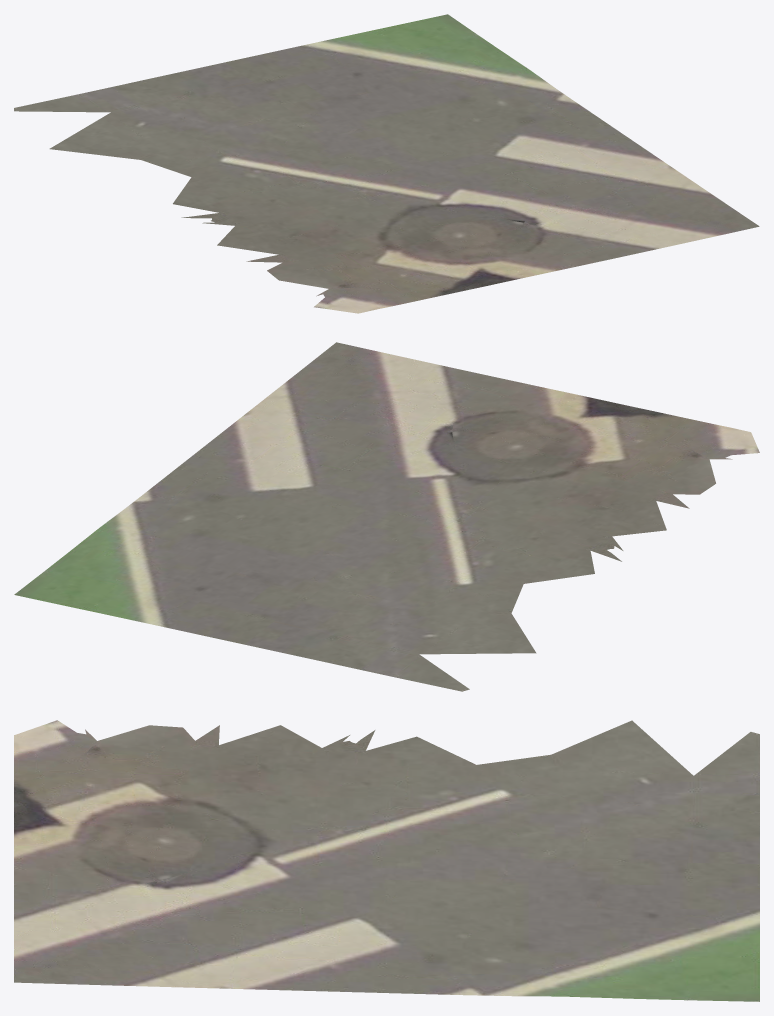
3 views of the same model, one above another, from view 1: azimuth 30°, elevation 25°; view 2: azimuth 150°, elevation 25°; view 3: azimuth 270°, elevation 25° (orthographic). The views are drawn at different scales.
Bounding box in the file's own units: 5.5 × 0.3143 × 6.57.
1 material, 1 textured.
